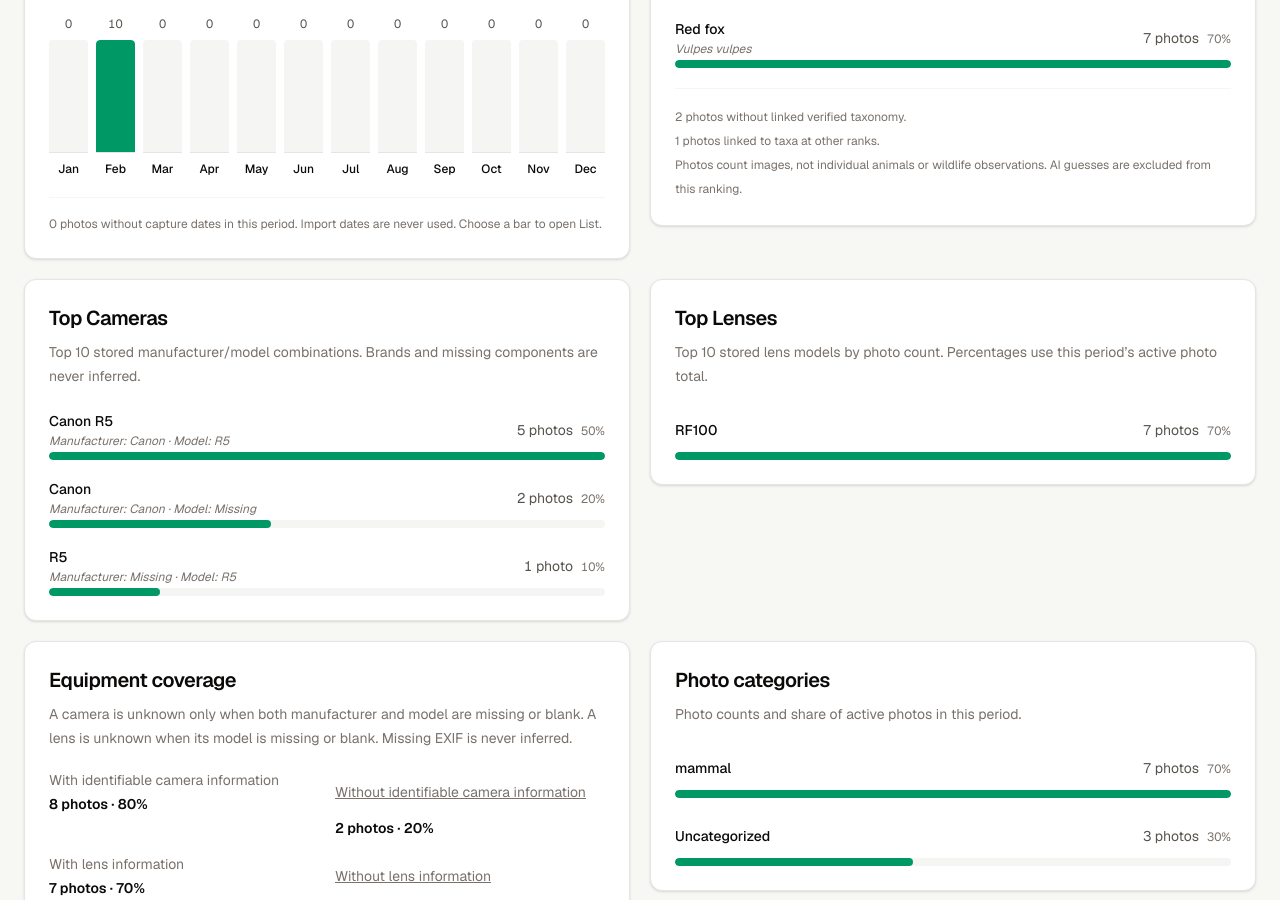
Test: comparison failure retries independently and cancelled comparisons cannot reappear
(page scrolled)
expect the element "Top Cameras" is shown: met, box [24,279,630,621]
Press Enter
(page scrolled)
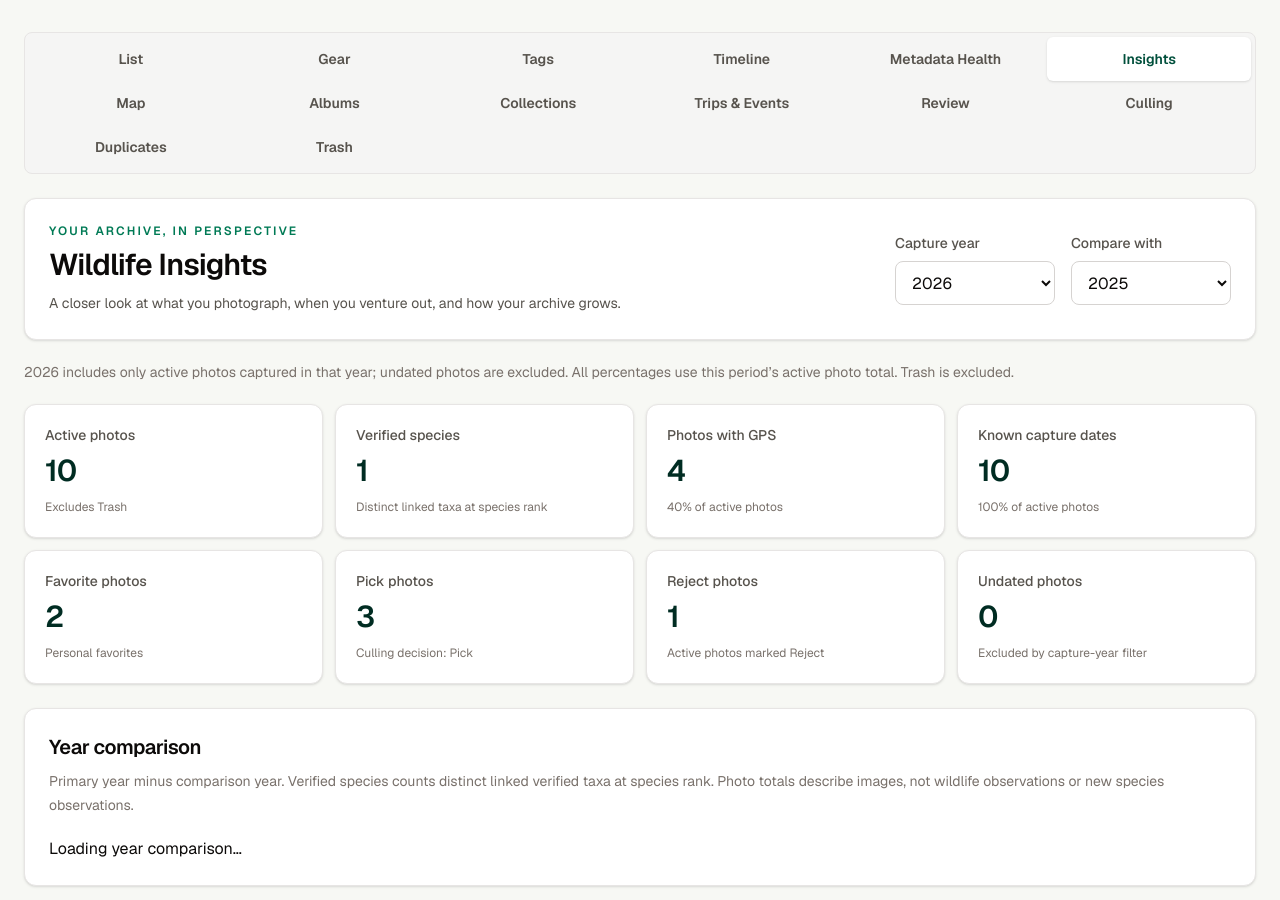
expect the text "Loading year comparison…" is shown: met, box [49,838,242,859]
Select "No comparison" in the dropdown labelled "Compare with" at (1151, 283), box [1071,261,1231,305]
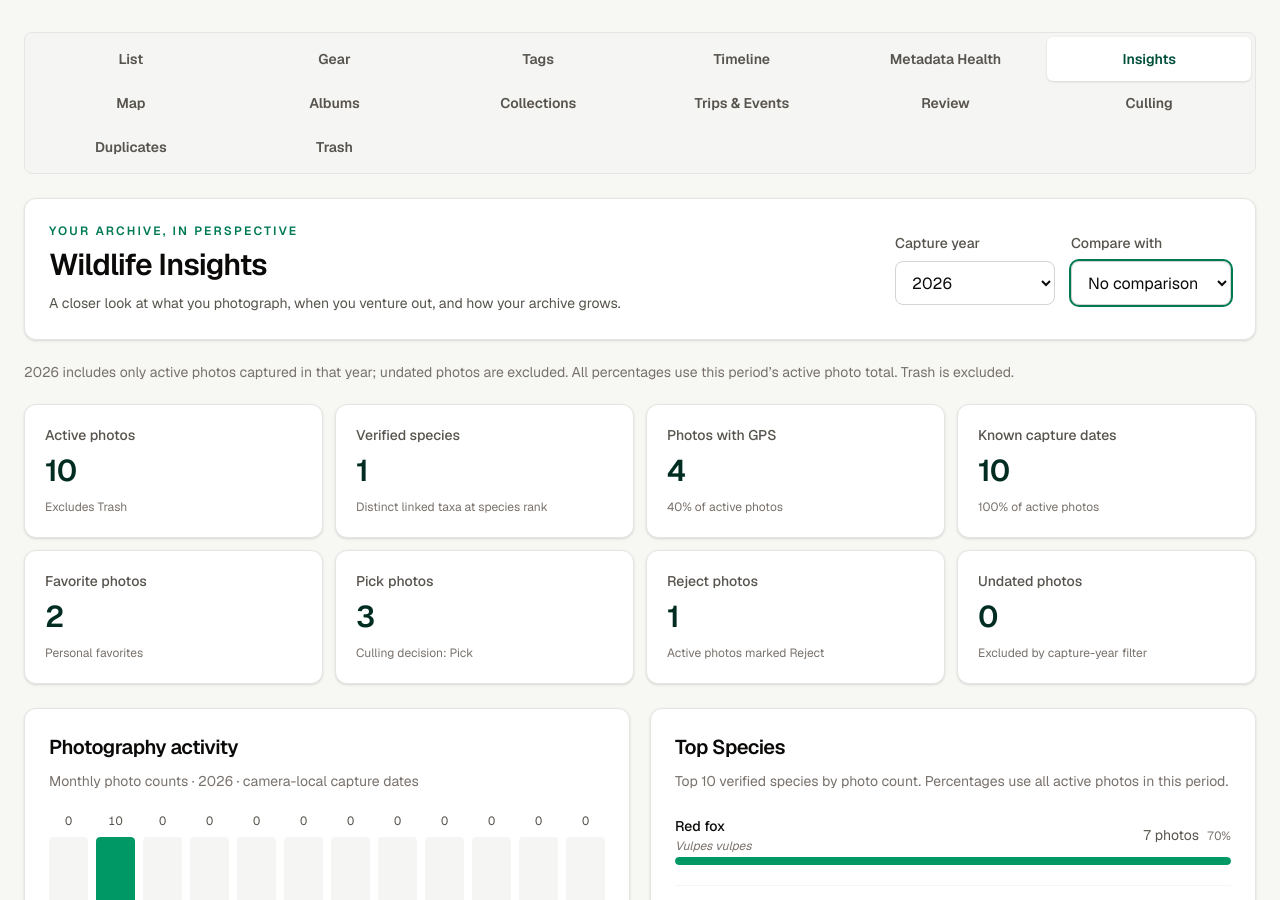
expect the heading "Year comparison" is gone: met
